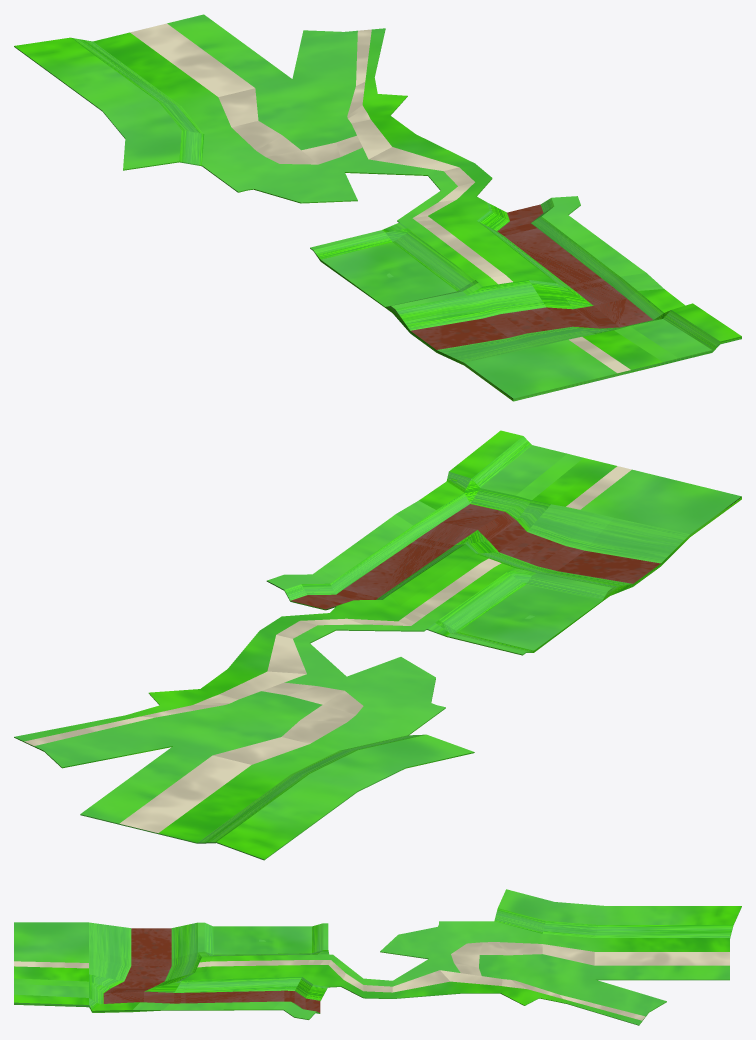
Rendered from Hub.fbx.
The picture shows the model from 3 angles, top to bottom: view 1: azimuth 30°, elevation 25°; view 2: azimuth 150°, elevation 25°; view 3: azimuth 270°, elevation 25°; orthographic projection. The views are drawn at different scales.
Visible parts, largest first — view 1: Cube.046, Cube.044, Cube.004, Cube.038, Cube.010, Cube.045, Cube.023, Cube.069, Cube.084, Cube.070, Cube.007, Cube.040 (+22 smaller); view 2: Cube.046, Cube.044, Cube.038, Cube.004, Cube.010, Cube.045, Cube.023, Cube.069, Cube.009, Cube.084, Cube.070, Cube.040 (+19 smaller); view 3: Cube.046, Cube.044, Cube.004, Cube.038, Cube.010, Cube.045, Cube.043, Cube.023, Cube.069, Cube.054, Cube.008, Cube.009 (+26 smaller).
Boxes of the visible parts, bbox=[...] form: Cube.046: bbox=[202, 28, 492, 205]; Cube.044: bbox=[93, 14, 291, 105]; Cube.004: bbox=[320, 242, 456, 307]; Cube.038: bbox=[14, 37, 158, 110]; Cube.010: bbox=[464, 347, 585, 401]; Cube.045: bbox=[181, 79, 292, 133]; Cube.023: bbox=[411, 224, 528, 286]; Cube.069: bbox=[542, 215, 685, 312]; Cube.084: bbox=[504, 228, 608, 291]; Cube.070: bbox=[531, 216, 663, 319]; Cube.007: bbox=[392, 295, 481, 332]; Cube.040: bbox=[123, 130, 181, 170]; Cube.046: bbox=[14, 613, 445, 768]; Cube.044: bbox=[80, 746, 290, 843]; Cube.038: bbox=[216, 774, 357, 860]; Cube.004: bbox=[458, 584, 602, 652]; Cube.010: bbox=[614, 478, 741, 536]; Cube.045: bbox=[174, 730, 337, 774]; Cube.023: bbox=[400, 554, 514, 619]; Cube.069: bbox=[313, 481, 463, 583]; Cube.009: bbox=[585, 518, 689, 565]; Cube.084: bbox=[343, 537, 454, 597]; Cube.070: bbox=[330, 493, 469, 594]; Cube.040: bbox=[358, 734, 474, 768]; Cube.046: bbox=[341, 921, 666, 1025]; Cube.044: bbox=[594, 938, 729, 980]; Cube.004: bbox=[213, 926, 311, 954]; Cube.038: bbox=[598, 906, 741, 925]; Cube.010: bbox=[14, 922, 88, 950]; Cube.045: bbox=[542, 934, 594, 979]; Cube.043: bbox=[595, 925, 733, 938]; Cube.023: bbox=[195, 954, 311, 972]; Cube.069: bbox=[92, 1001, 290, 1012]; Cube.054: bbox=[174, 977, 301, 992]; Cube.008: bbox=[131, 928, 171, 959]; Cube.009: bbox=[89, 922, 131, 958].
Bounding box in the file's own units: 1253 × 101 × 2954.
